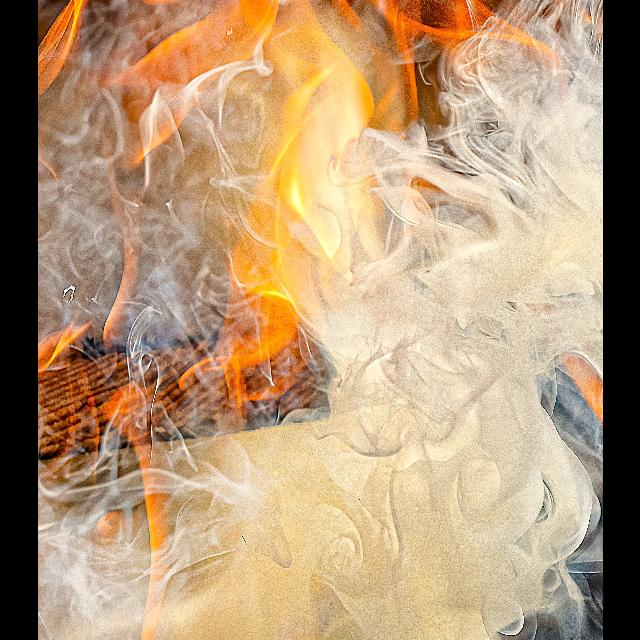smoke: (213, 105, 602, 640)
